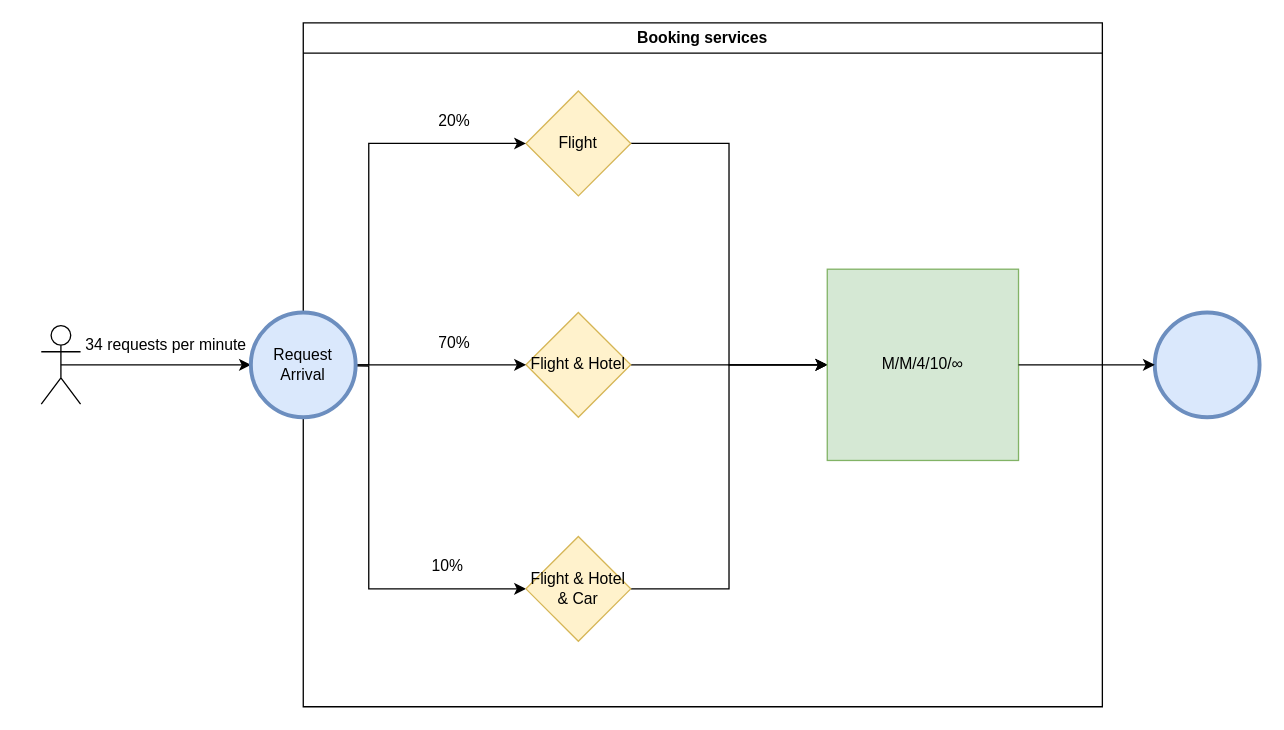
The diagram is 1284 pixels wide and 730 high, and some of its shapes have lost their labels. The box of each missing label's shape, as (x1, y1, x2, y2) in pixels:
Customers: (40, 324, 81, 404)
Request Done: (1152, 310, 1261, 419)
